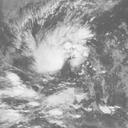cyclone: (32, 23, 94, 75)
